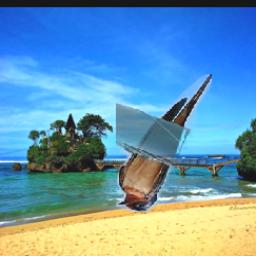Swallow: (117, 74, 213, 212)
